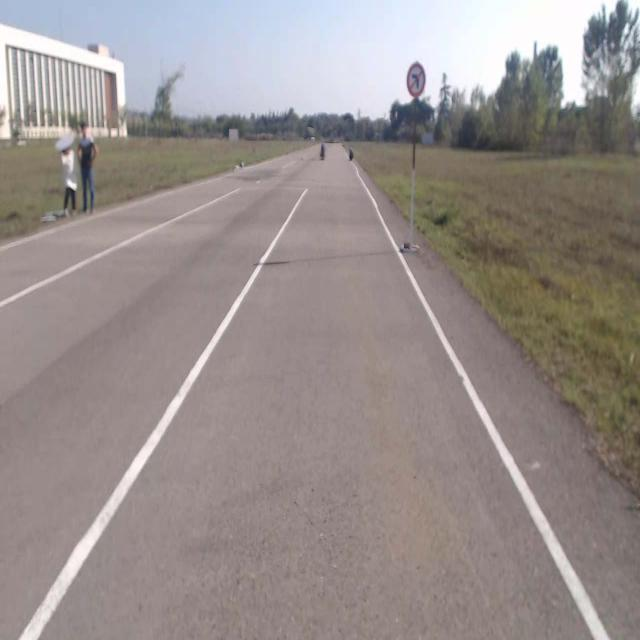soladonulmez: (407, 63, 425, 96)
